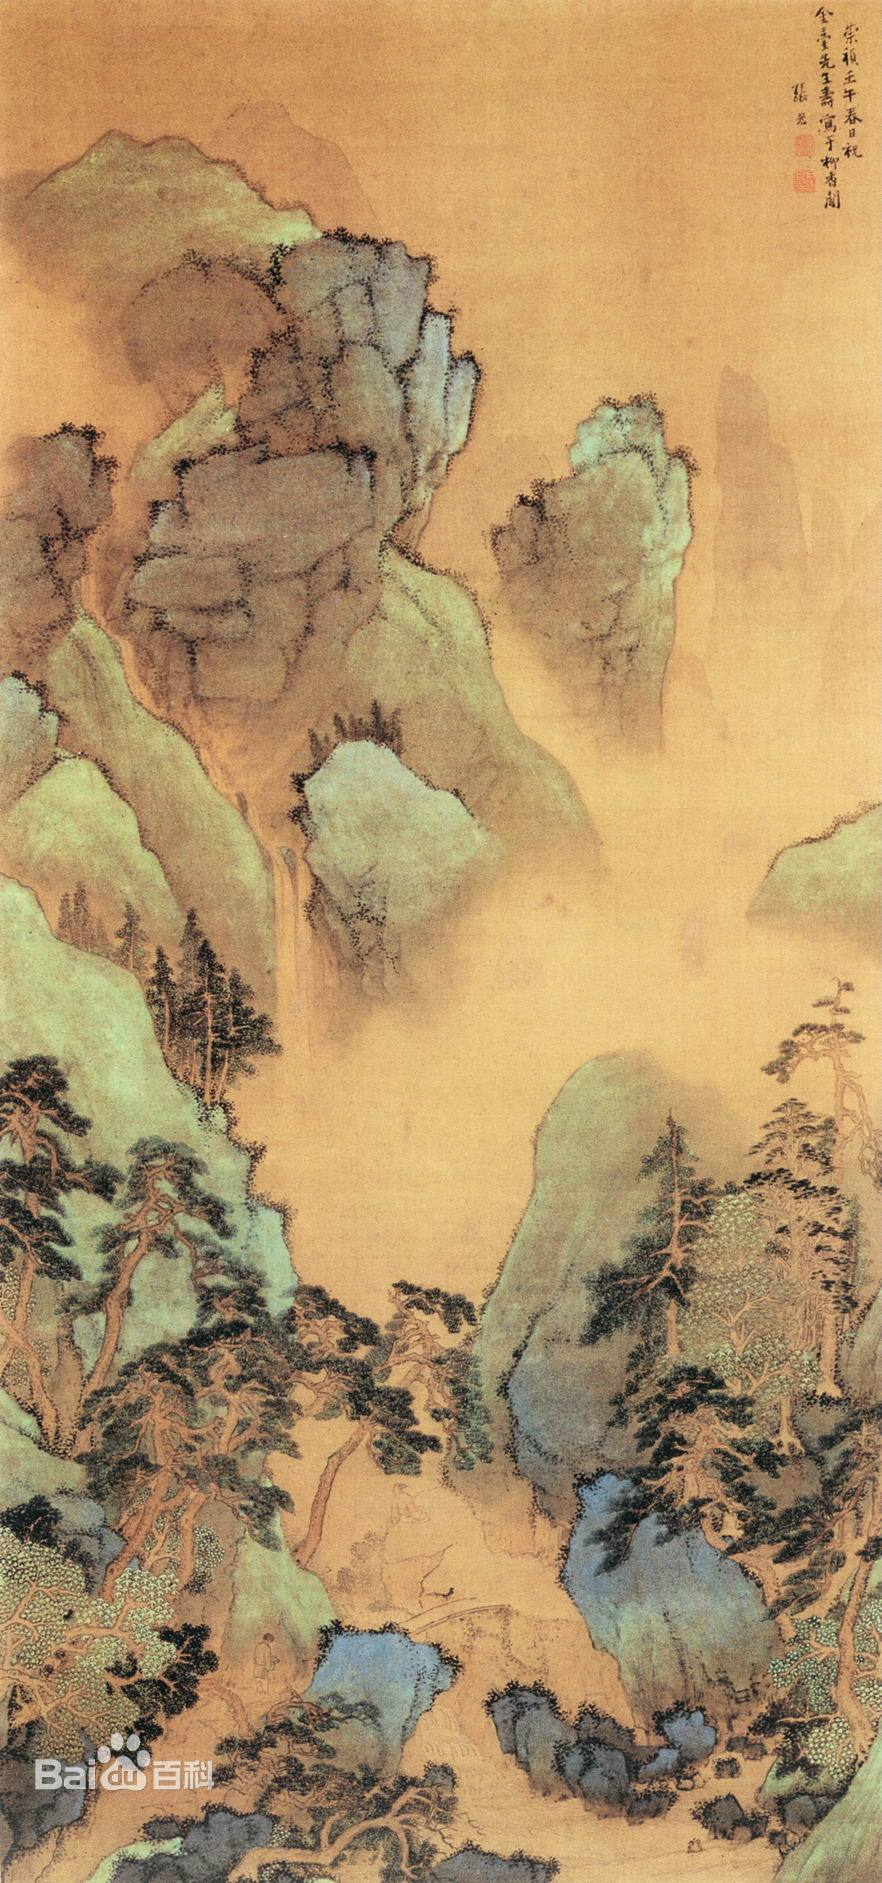mountain: (38, 174, 410, 709), (18, 710, 240, 923), (538, 430, 678, 748), (326, 764, 484, 994), (514, 1694, 692, 1845), (484, 1295, 596, 1504), (534, 1090, 642, 1260), (562, 1568, 680, 1702), (8, 923, 111, 1048), (416, 301, 472, 494), (314, 1642, 454, 1712), (800, 836, 880, 941), (105, 1082, 168, 1138)
tree: (204, 1319, 482, 1472), (770, 1008, 880, 1394), (704, 1436, 882, 1618), (246, 1734, 455, 1881), (654, 1166, 768, 1419), (96, 1154, 186, 1422), (606, 1290, 689, 1550), (20, 1078, 72, 1428), (118, 1386, 198, 1600), (789, 1612, 882, 1768), (4, 1532, 88, 1674), (162, 968, 254, 1092), (105, 1616, 204, 1728), (296, 1470, 336, 1570)
